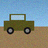vehicle: (4, 14, 34, 34)
